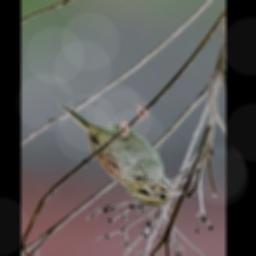Sparrow: (58, 103, 187, 209)
